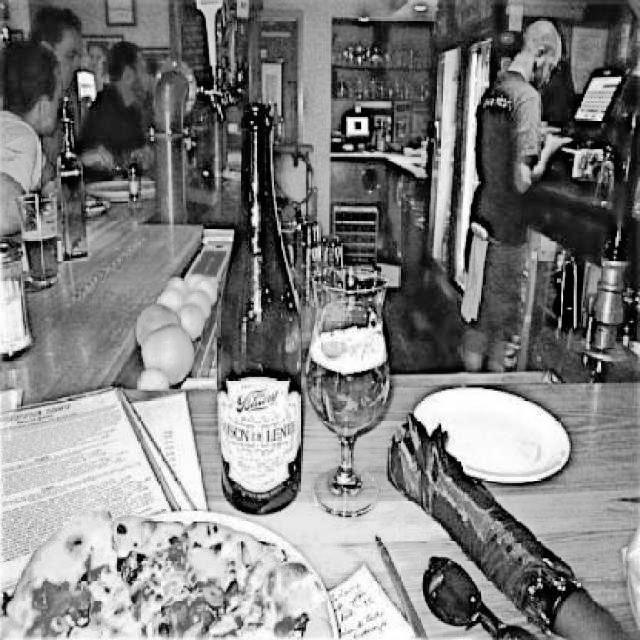Person: (459, 8, 570, 377)
